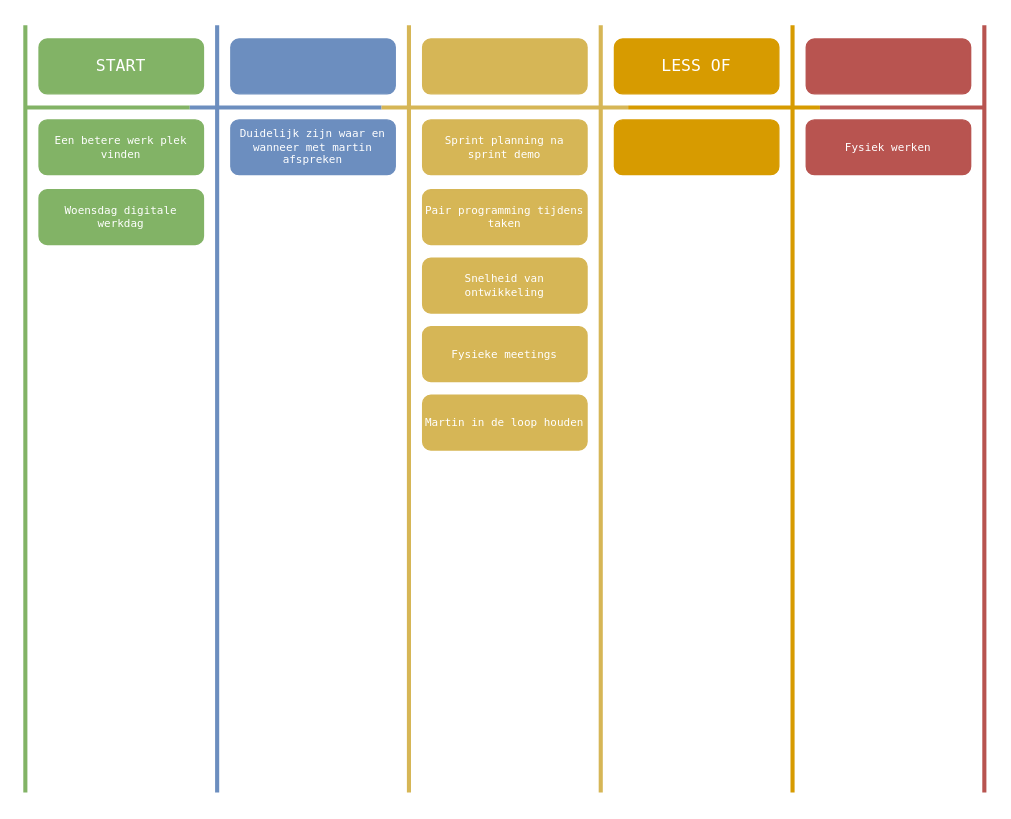
The diagram is 1011 pixels wide and 819 high, and some of its shapes have lost their labels. Each missing label, with the centre of its shape:
CONTINUE: (x=504, y=66)
MORE OF: (x=312, y=66)
STOP: (x=888, y=66)
